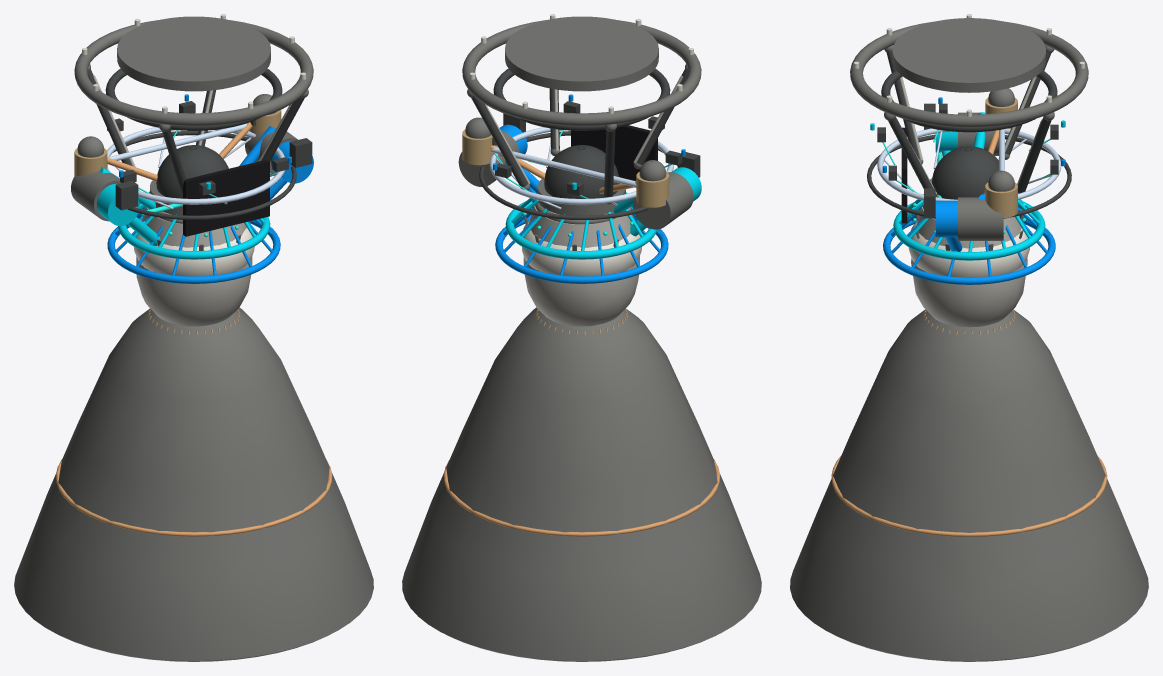
The model's file is raptor_engine_concept_assembly.glb.
The picture shows the model from 3 angles, left to right: view 1: azimuth 30°, elevation 25°; view 2: azimuth 150°, elevation 25°; view 3: azimuth 270°, elevation 25°; orthographic projection.
Visible parts, largest first — view 1: =>[0:1:1:5], =>[0:1:1:319], =>[0:1:1:88], =>[0:1:1:315], =>[0:1:1:429], =>[0:1:1:427], =>[0:1:1:96], =>[0:1:1:250], =>[0:1:1:13], =>[0:1:1:248], =>[0:1:1:252], =>[0:1:1:211] (+11 smaller); view 2: =>[0:1:1:5], =>[0:1:1:319], =>[0:1:1:88], =>[0:1:1:315], =>[0:1:1:96], =>[0:1:1:427], =>[0:1:1:429], =>[0:1:1:250], =>[0:1:1:248], =>[0:1:1:207], =>[0:1:1:13], =>[0:1:1:252] (+10 smaller); view 3: =>[0:1:1:5], =>[0:1:1:319], =>[0:1:1:315], =>[0:1:1:88], =>[0:1:1:96], =>[0:1:1:427], =>[0:1:1:250], =>[0:1:1:248], =>[0:1:1:225], =>[0:1:1:13], =>[0:1:1:252], =>[0:1:1:211] (+5 smaller).
Part boxes in pixels (box(x1,y1,x2,y2)): =>[0:1:1:5]: box(14, 307, 373, 660); =>[0:1:1:319]: box(117, 16, 270, 91); =>[0:1:1:88]: box(136, 207, 252, 326); =>[0:1:1:315]: box(74, 20, 313, 126); =>[0:1:1:429]: box(183, 159, 269, 236); =>[0:1:1:427]: box(133, 220, 254, 276); =>[0:1:1:96]: box(156, 145, 228, 198); =>[0:1:1:250]: box(107, 216, 280, 283); =>[0:1:1:13]: box(56, 459, 332, 536); =>[0:1:1:248]: box(118, 204, 270, 259); =>[0:1:1:252]: box(107, 127, 284, 204); =>[0:1:1:211]: box(113, 131, 296, 220); =>[0:1:1:5]: box(402, 307, 761, 660); =>[0:1:1:319]: box(505, 16, 658, 91); =>[0:1:1:88]: box(523, 205, 639, 326); =>[0:1:1:315]: box(462, 20, 701, 126); =>[0:1:1:96]: box(544, 145, 619, 198); =>[0:1:1:427]: box(522, 219, 642, 276); =>[0:1:1:429]: box(571, 112, 657, 180); =>[0:1:1:250]: box(495, 215, 668, 283); =>[0:1:1:248]: box(505, 201, 656, 259); =>[0:1:1:207]: box(633, 172, 693, 229); =>[0:1:1:13]: box(443, 459, 719, 536); =>[0:1:1:252]: box(489, 127, 673, 204); =>[0:1:1:5]: box(790, 309, 1148, 660); =>[0:1:1:319]: box(892, 18, 1045, 92); =>[0:1:1:315]: box(850, 21, 1088, 127); =>[0:1:1:88]: box(911, 207, 1027, 327); =>[0:1:1:96]: box(932, 146, 998, 199); =>[0:1:1:427]: box(908, 220, 1029, 277); =>[0:1:1:250]: box(883, 219, 1055, 284); =>[0:1:1:248]: box(893, 200, 1045, 260); =>[0:1:1:225]: box(958, 197, 1003, 240); =>[0:1:1:13]: box(831, 455, 1107, 536); =>[0:1:1:252]: box(877, 128, 1061, 200); =>[0:1:1:211]: box(867, 134, 1071, 218).
Bounding box in the file's own units: 1.45 × 2.4 × 1.45.
